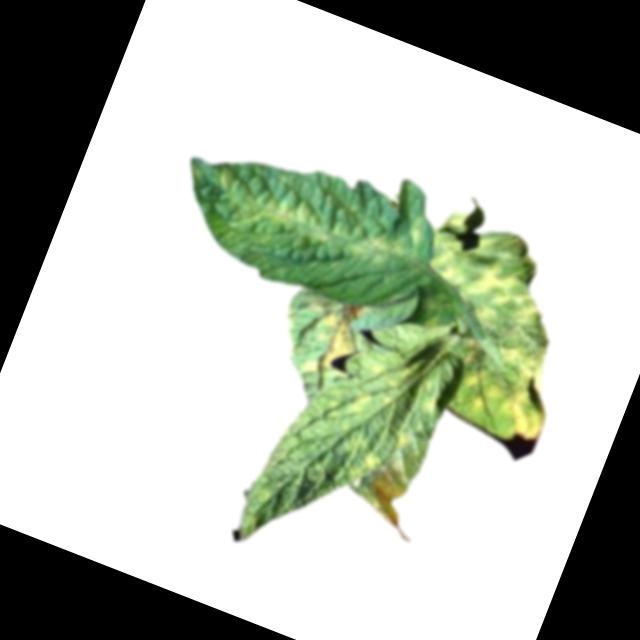Leaf_Mold: (216, 173, 413, 291), (421, 229, 557, 332), (447, 330, 564, 441), (295, 301, 372, 389), (346, 346, 415, 432), (360, 453, 429, 534), (335, 431, 387, 488), (387, 420, 416, 450)
